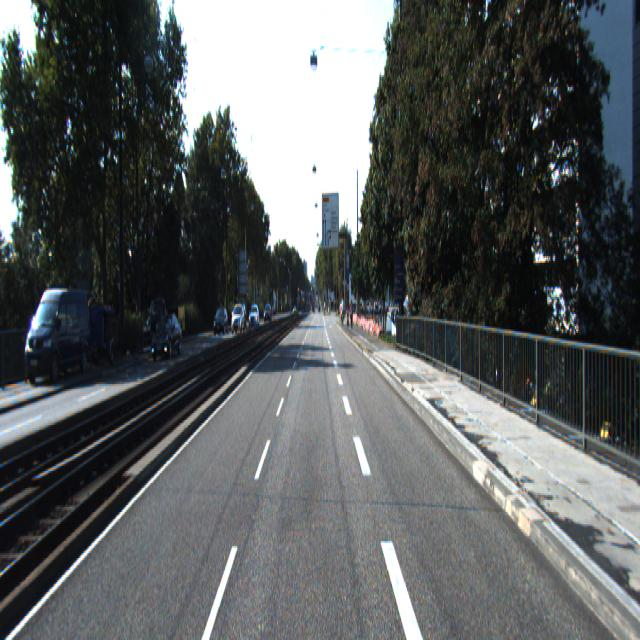Car: (24, 285, 93, 386), (90, 300, 120, 366), (150, 312, 184, 362), (146, 294, 177, 346), (212, 306, 230, 336), (172, 302, 185, 338), (231, 303, 245, 332)
